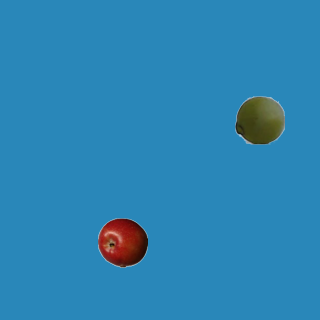Apple Braeburn: (97, 217, 147, 267)
Grape White 4: (234, 94, 284, 144)
